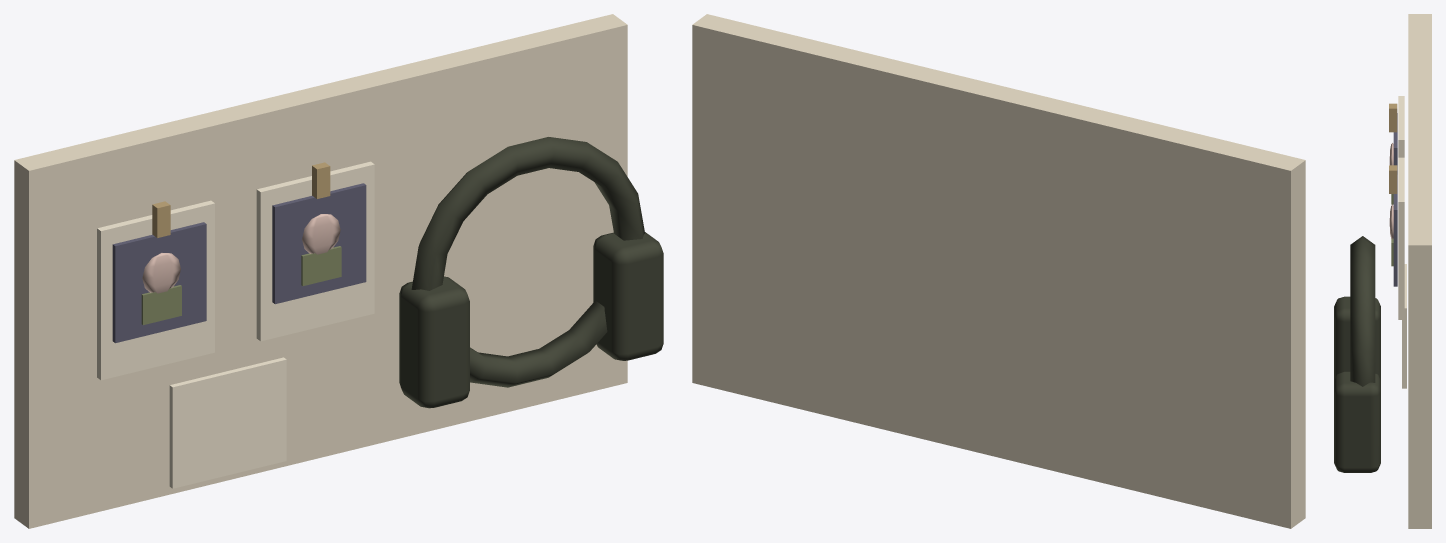
File: study_ref_headphone_board.glb
3 renders of one model, left to right at view 1: azimuth 30°, elevation 25°; view 2: azimuth 150°, elevation 25°; view 3: azimuth 270°, elevation 25°, orthographic. The views are drawn at different scales.
Size of the model in its own units: 1.05 by 0.6 by 0.1875.
